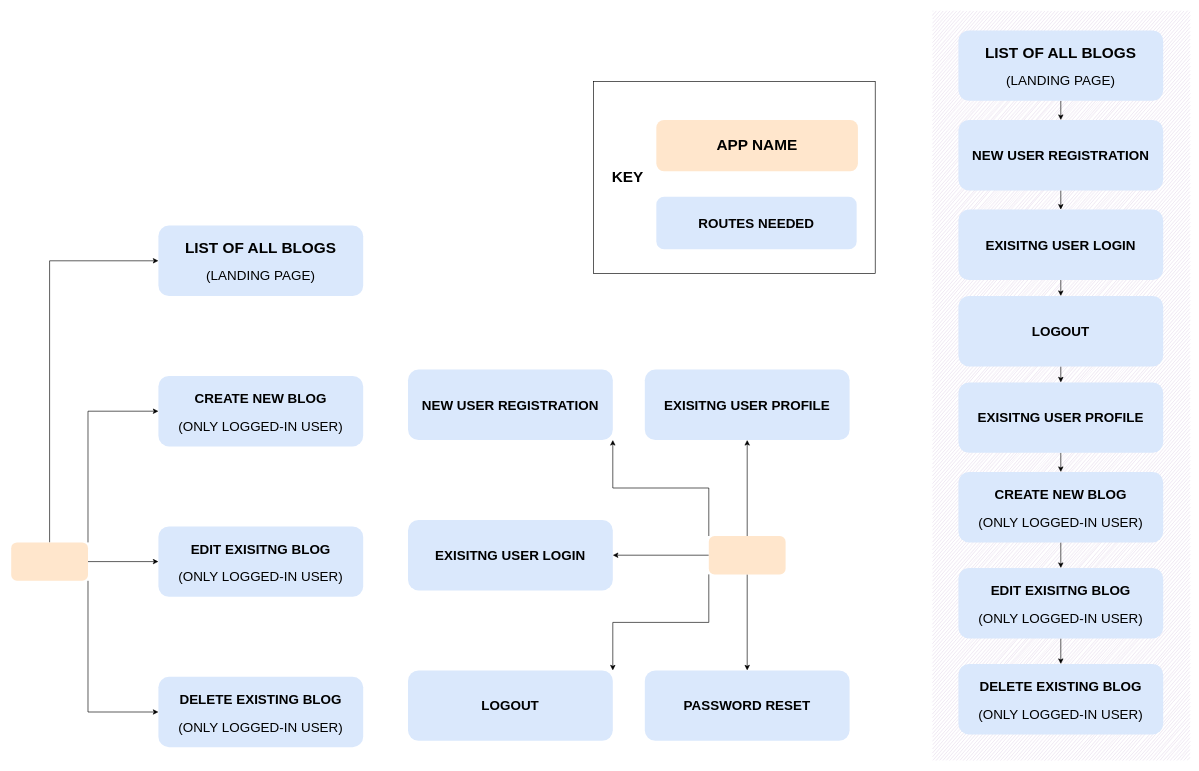
Image size: 1199x771. Some labels were removed from this diagram. Each missing label, with the centre of its shape:
"BLOG" goes at (x=49, y=561).
"USER" goes at (x=746, y=555).
